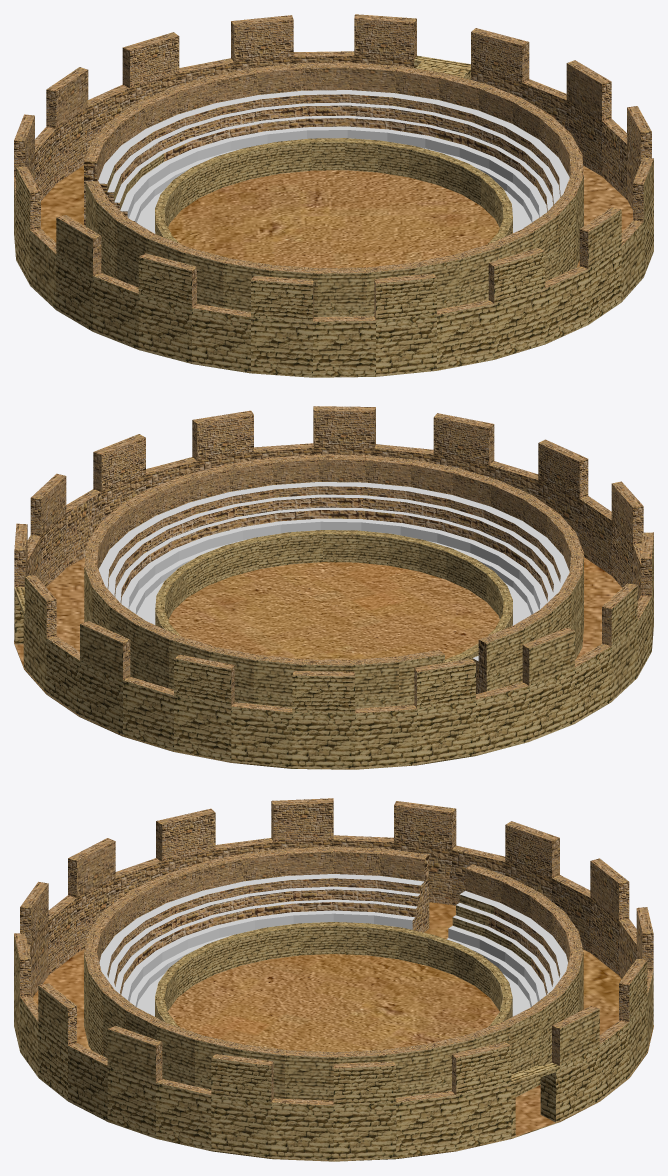
The picture shows the model from 3 angles, top to bottom: view 1: azimuth 30°, elevation 25°; view 2: azimuth 150°, elevation 25°; view 3: azimuth 270°, elevation 25°; orthographic projection.
Parts seen in each view (by area): view 1: Цилиндр, Цилиндр.001; view 2: Цилиндр, Цилиндр.001; view 3: Цилиндр, Цилиндр.001.
Part boxes in pixels (x1=…): Цилиндр: x1=14, y1=14, x2=653, y2=377; Цилиндр.001: x1=16, y1=165, x2=653, y2=377; Цилиндр: x1=14, y1=406, x2=653, y2=768; Цилиндр.001: x1=14, y1=557, x2=636, y2=769; Цилиндр: x1=14, y1=798, x2=653, y2=1160; Цилиндр.001: x1=33, y1=902, x2=653, y2=1161.
Size of the model in its own units: 200 by 34.95 by 200.
8 materials, 6 textured.
